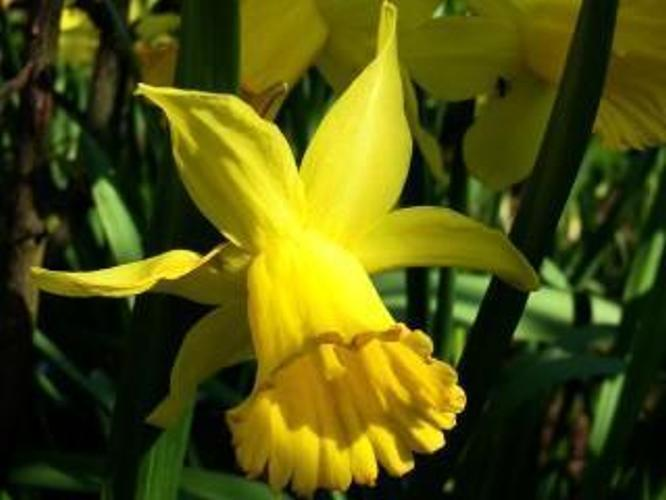flower1: (28, 4, 537, 494)
